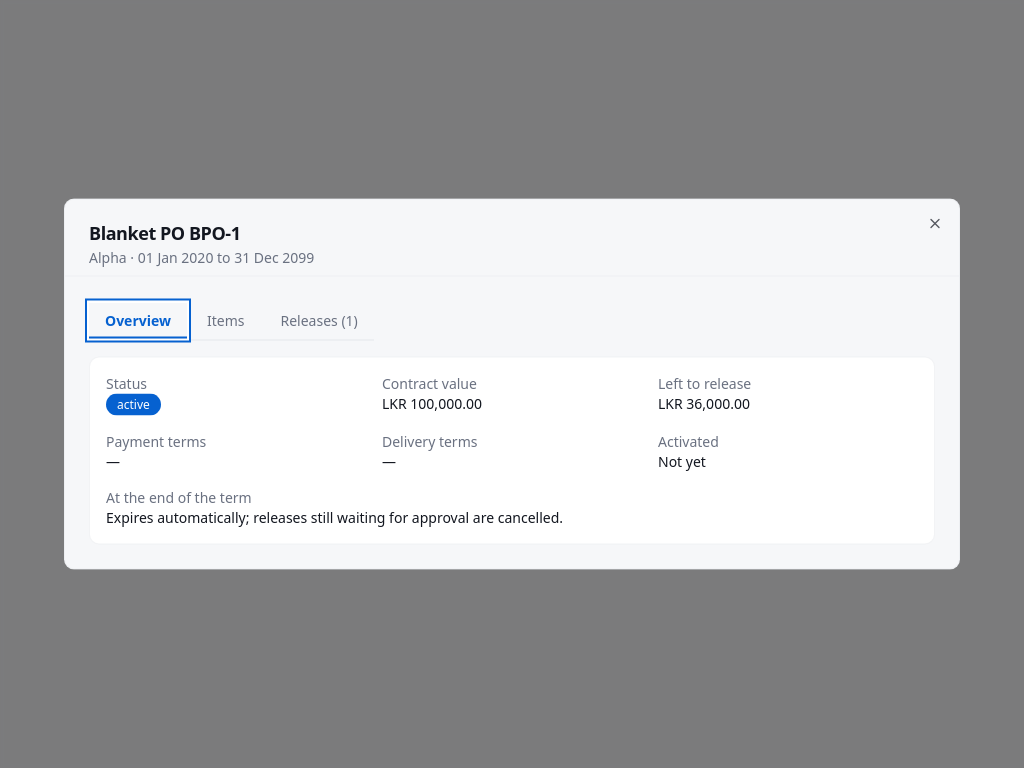
it: BlanketPoDetailsDialog releases › offers approval only when the database allows it
Earlier steps of the test are not shown.
Click the tab "Releases (1)" at (319, 320), box left=264, top=302, right=374, bottom=338
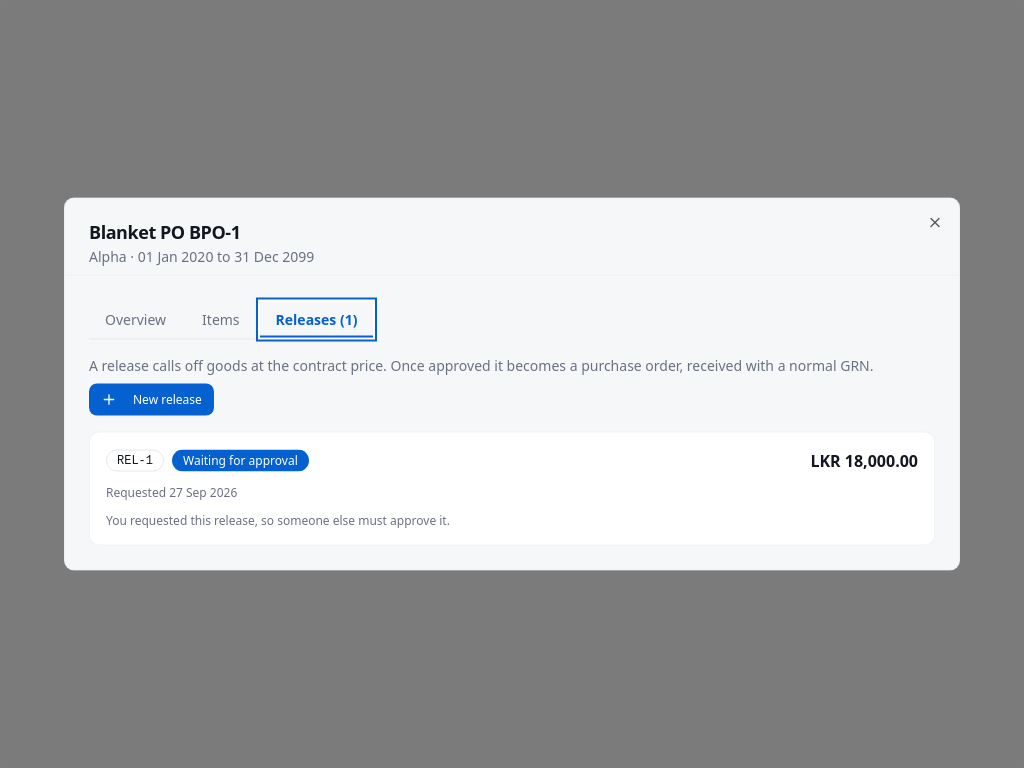
Result: the text "You requested this release, so someone else must approve it." is shown at left=106, top=512, right=450, bottom=528
